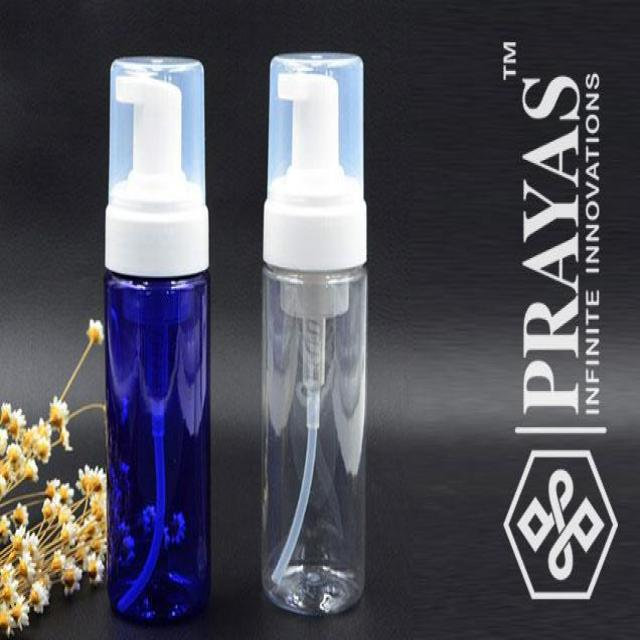plastic_bottle: (105, 55, 215, 619), (264, 58, 373, 616)
